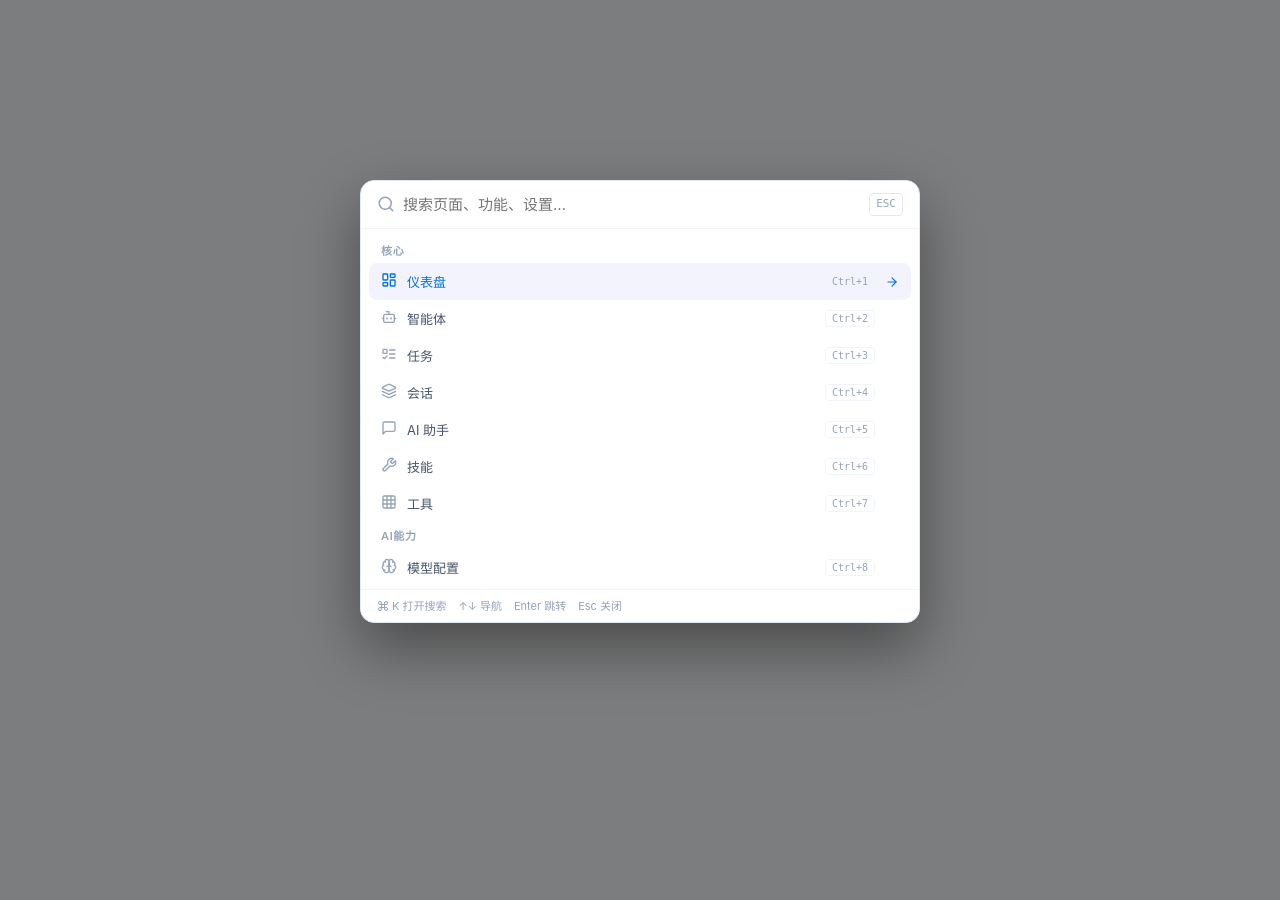
Test: GlobalSearch › shows no results message when query matches nothing
Type "zzzznomatch9999" into the field with placeholder "搜索页面、功能、设置..." at (632, 204), box [403,195,861,214]
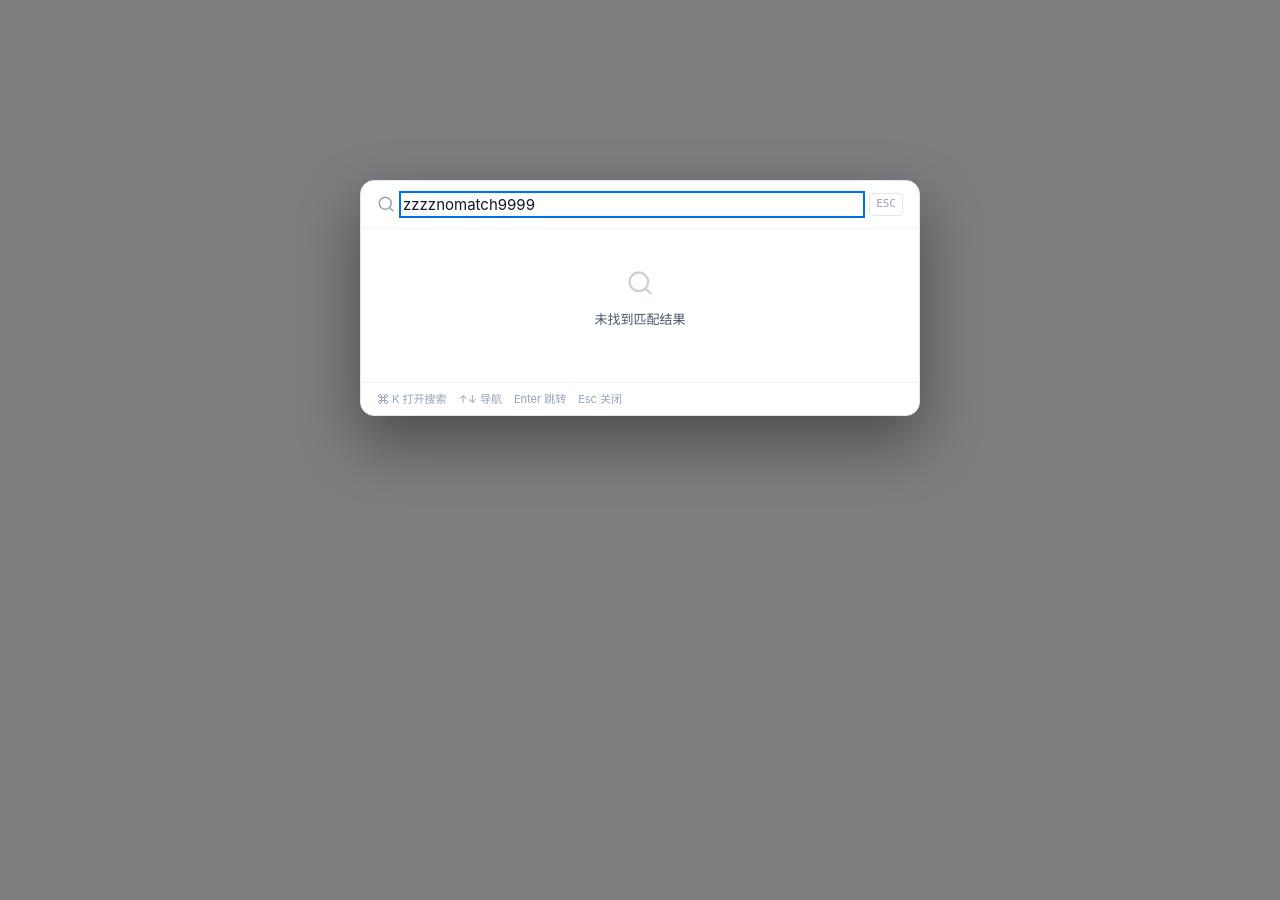
Check: the text "未找到匹配结果" is shown, box [594,311,686,327]
